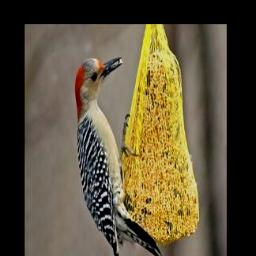Woodpecker: (62, 47, 168, 256)
